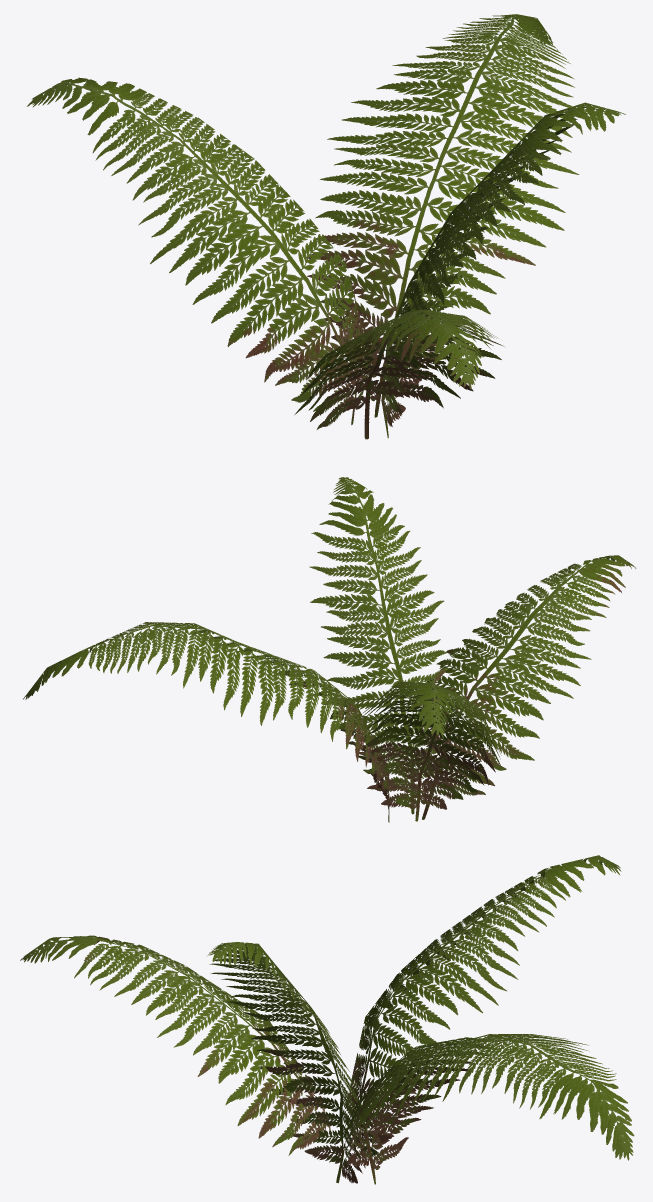
The model's file is MSH_fwOF_Fern_03.fbx.
3 views of the same model, one above another, from view 1: azimuth 30°, elevation 25°; view 2: azimuth 150°, elevation 25°; view 3: azimuth 270°, elevation 25° (orthographic). The views are drawn at different scales.
Parts seen in each view (by area): view 1: MSH_fwOF_Fern_03; view 2: MSH_fwOF_Fern_03; view 3: MSH_fwOF_Fern_03.
Boxes of the visible parts, <box> form: MSH_fwOF_Fern_03: <box>27,14,625,439</box>; MSH_fwOF_Fern_03: <box>23,477,636,822</box>; MSH_fwOF_Fern_03: <box>20,855,634,1184</box>.
Size of the model in its own units: 0.7317 by 0.4484 by 0.8333.
